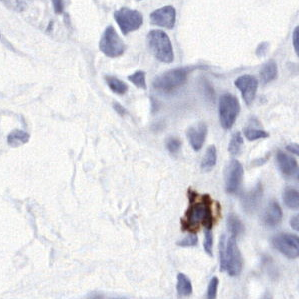Lymphocyte: (182, 188, 216, 233)
